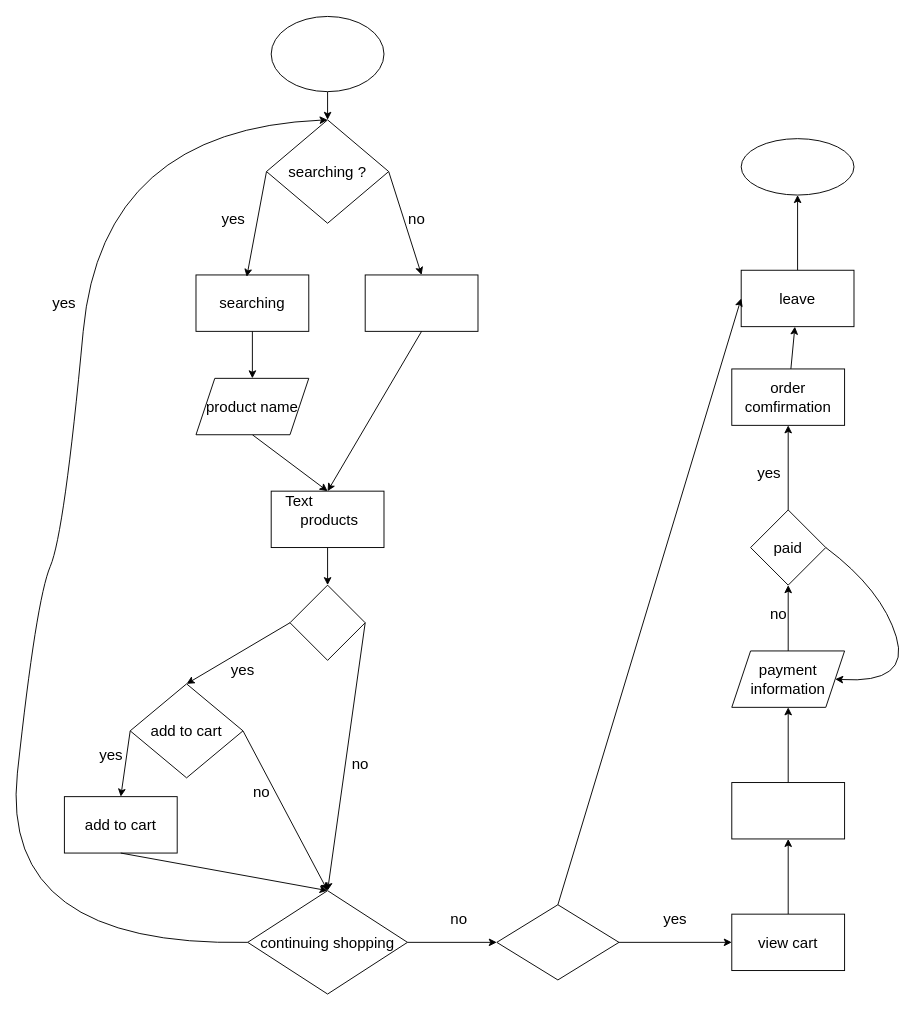
This 916x1011 diagram has some shape labels left out. The shapes that lost their labels are listed below. From the top down, each one's box as (x1, y1, x2, y2) in pixels, then its label:
(270, 16, 384, 92): start
(740, 138, 854, 195): end
(364, 274, 478, 331): exploring
(289, 584, 365, 660): viewing?
(731, 782, 845, 839): view payment
(496, 904, 619, 980): checkout
